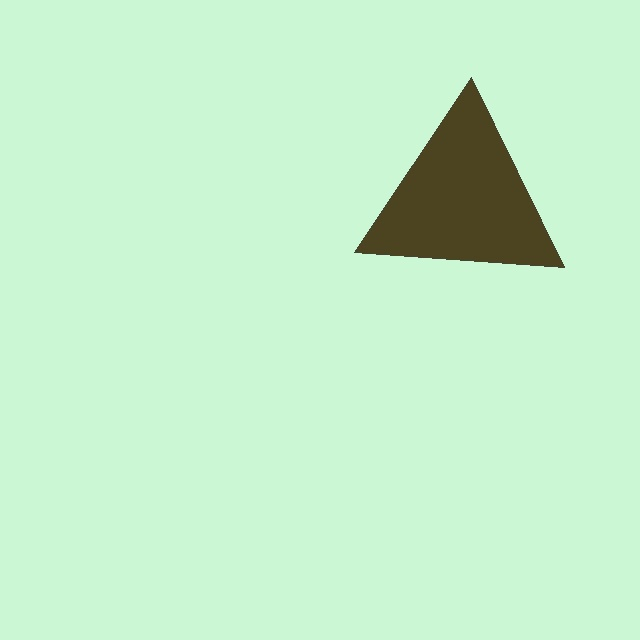triangle: (353, 76, 564, 268)
